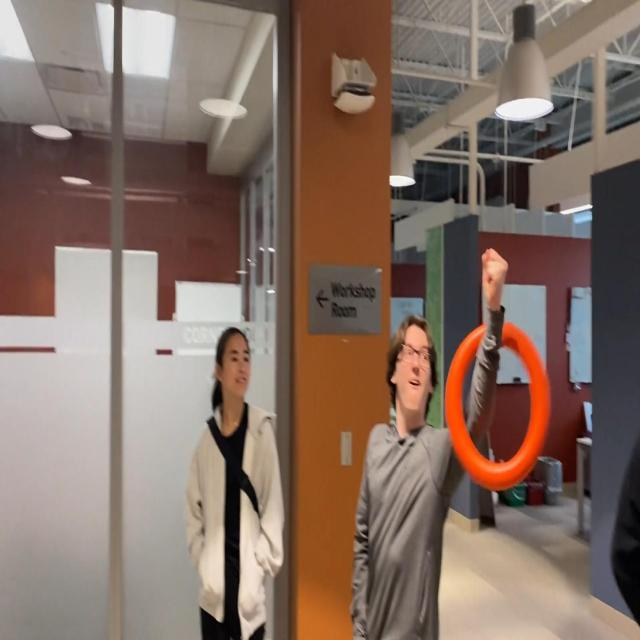note: (442, 319, 550, 493)
